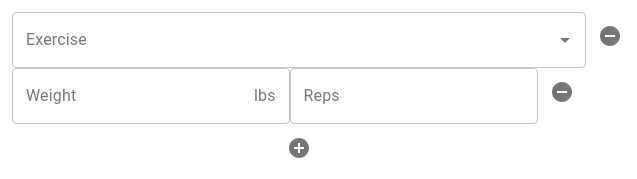
Test: input field › should accept only alphabetic characters, trying "e1@"
Step 1. Type "e1@" into the search field labelled "Exercise" → point(271, 40), box [21,21,521,59]
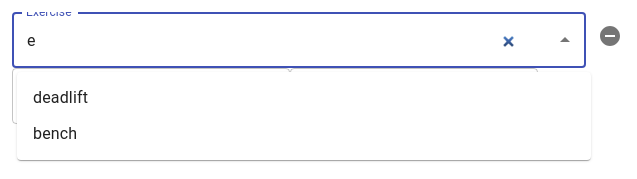
Expected: the search field labelled "Exercise" holds "^[a-z]*$", [21,21,521,59]
